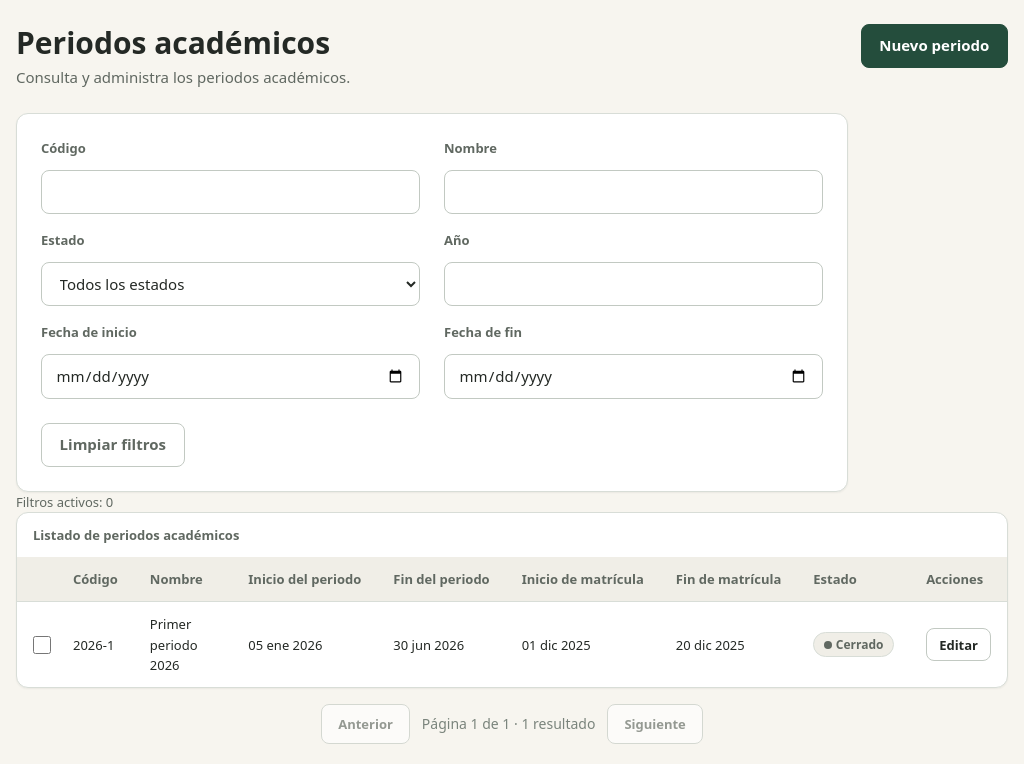
Test: ListadoPeriodosComponent › oculta Cambiar estado si no hay transiciones disponibles
The image size is (1024, 764).
Click the cell "2026-1".
click(95, 644)  # box x1=57 y1=602 x2=134 y2=687
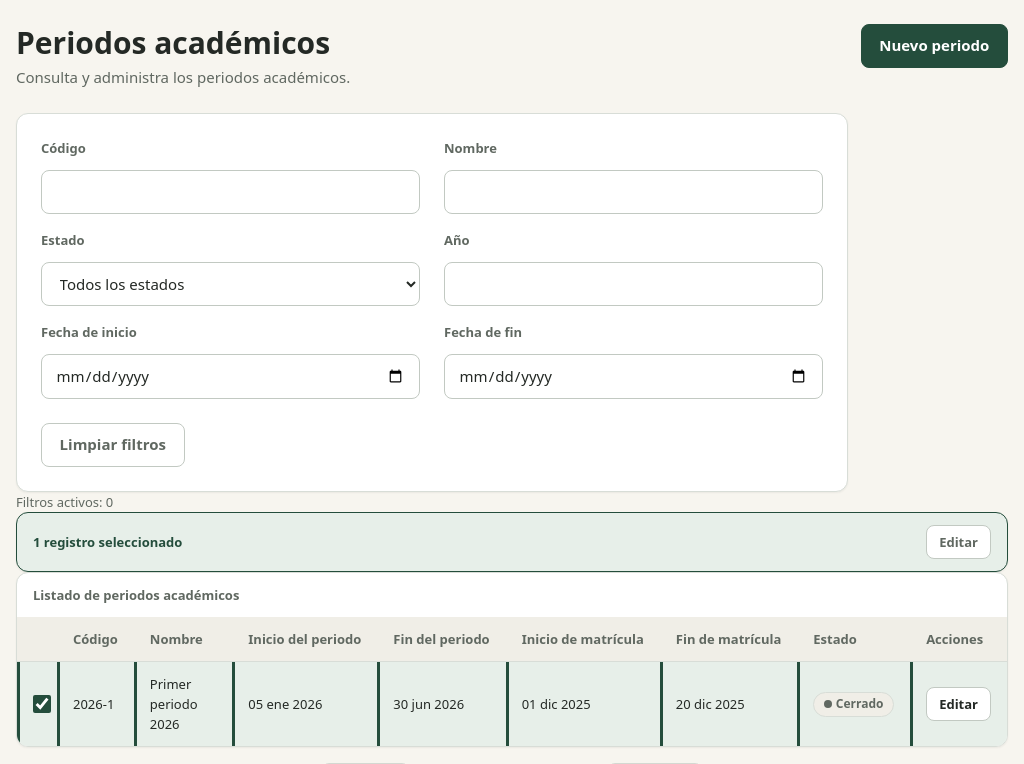
Result: the button "Editar" is shown at x1=926 y1=525 x2=991 y2=559
